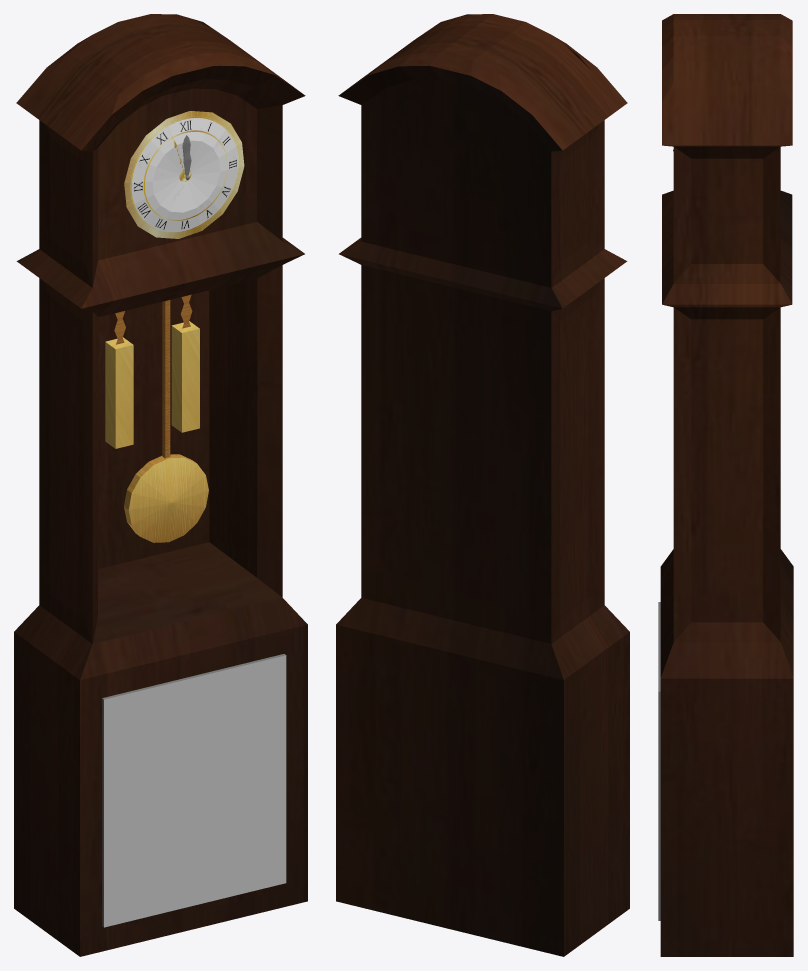
Rendered from reloj.obj.
The picture shows the model from 3 angles, left to right: view 1: azimuth 30°, elevation 25°; view 2: azimuth 150°, elevation 25°; view 3: azimuth 270°, elevation 25°; orthographic projection.
Visible parts, largest first — view 1: hourhand_clocktexture1; view 2: hourhand_clocktexture1; view 3: hourhand_clocktexture1.
Part boxes in pixels (left/top/right/bottom): hourhand_clocktexture1: left=14, top=14, right=307, bottom=956; hourhand_clocktexture1: left=336, top=14, right=629, bottom=956; hourhand_clocktexture1: left=658, top=14, right=793, bottom=956.
Bounding box in the file's own units: 2.17 × 7.91 × 1.11.
